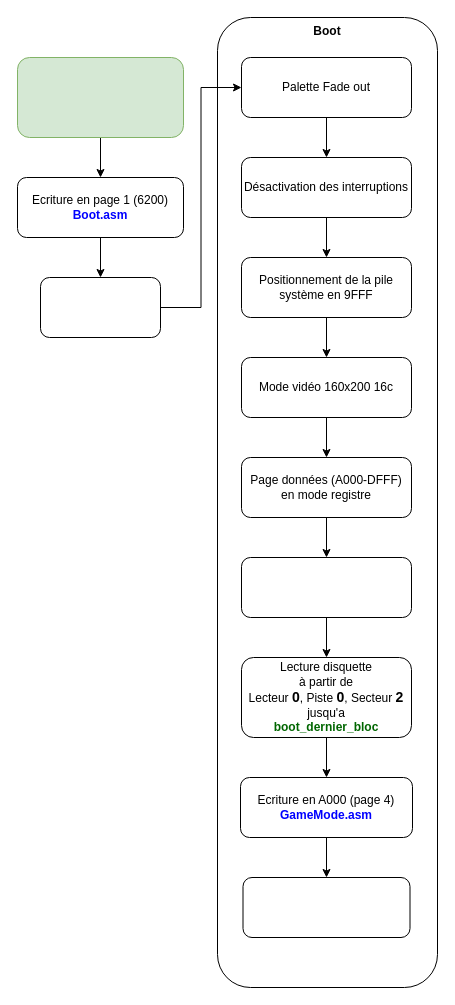
Some shapes in this 455 by 1005 pixel diagram are drawn without their labels. Here are the shapes that lost their labels. From the top down, the centre of each, then its label:
At (100,97): "Lecture disquette Lecteur 0 , Piste 0 , Secteur 0 256 octets".
At (100,307): "Jump to $6200".
At (326,587): "Positionnement de la page 4 en A000-DFFF".
At (326,907): "Saut en A000 (page 4)".
